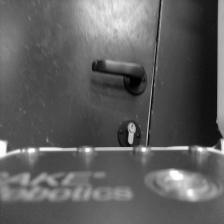Door Handle: (90, 51, 150, 96)
Lock: (117, 118, 142, 146)
